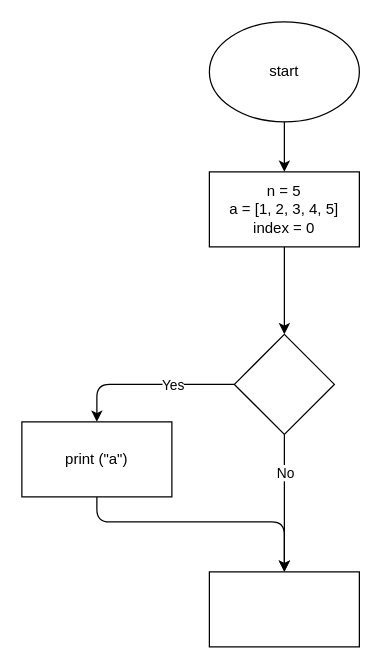
Some shapes in this 381 by 669 pixel diagram are drawn without their labels. The shapes that lost their labels are listed below. From the top down, each one's box as (x1, y1, x2, y2) in pixels, then its label:
(233, 333, 334, 434): a < n a % 2 ==0
(208, 571, 359, 647): index +=1
